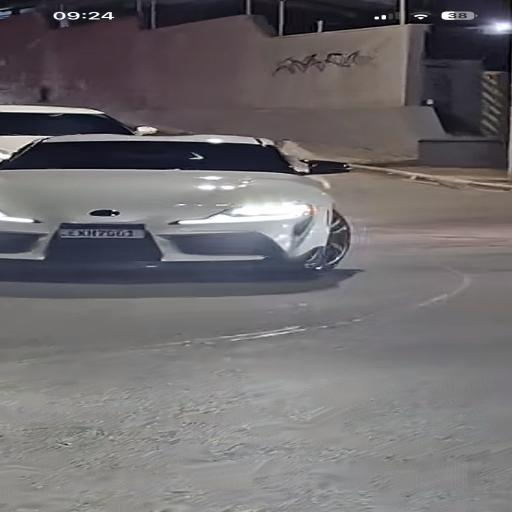detec-o-placas: (14, 193, 154, 258)
